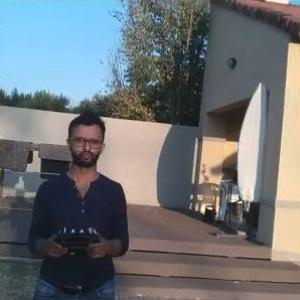follow: (21, 101, 136, 299)
